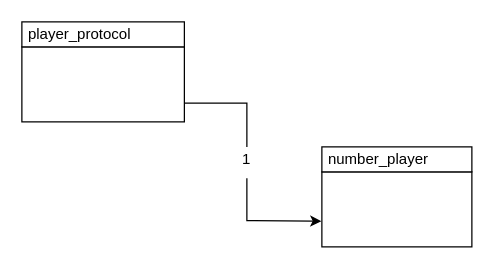
The diagram is 494 pixels wide and 269 high, and some of its shapes have lost their labels. The centre of each missing label's shape, as x and y in pixels:
id: serial number int: point 396,209
id: serial surname varchar(255) number_player_id: int: point 102,84
